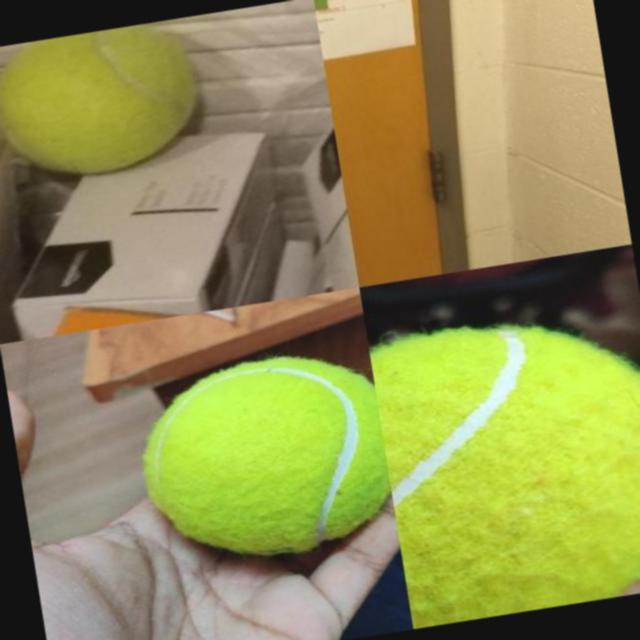tennis-ball: (368, 302, 640, 628), (130, 343, 398, 572), (0, 16, 212, 188)
